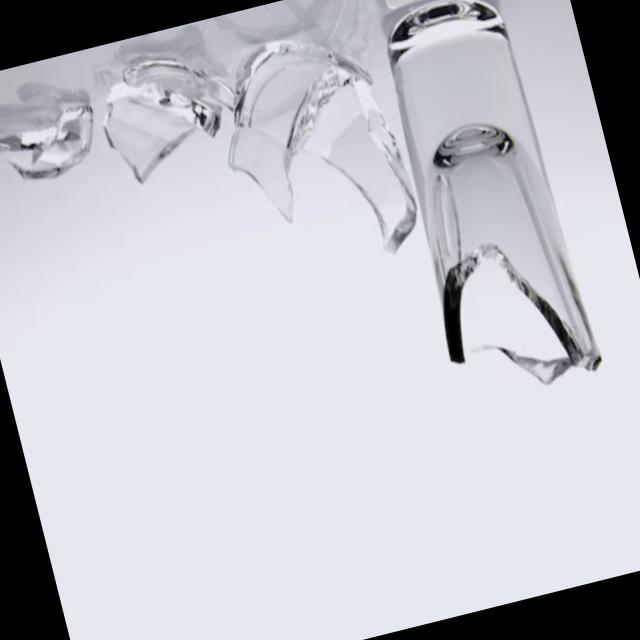PecahanKaca: (365, 0, 606, 409), (202, 17, 428, 290), (88, 36, 252, 192), (0, 80, 107, 195)
